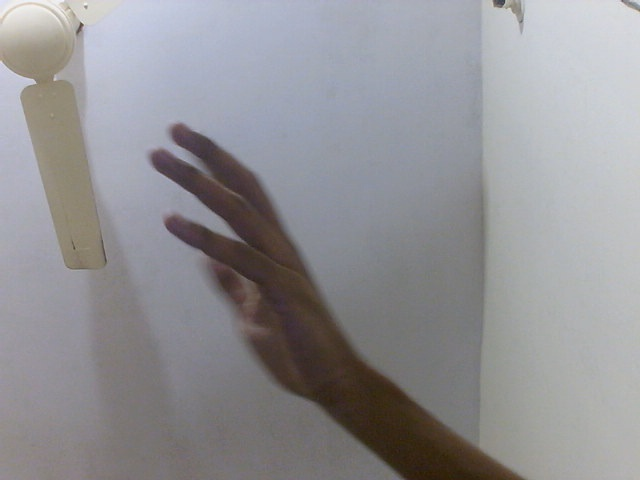hand: (145, 119, 358, 406)
